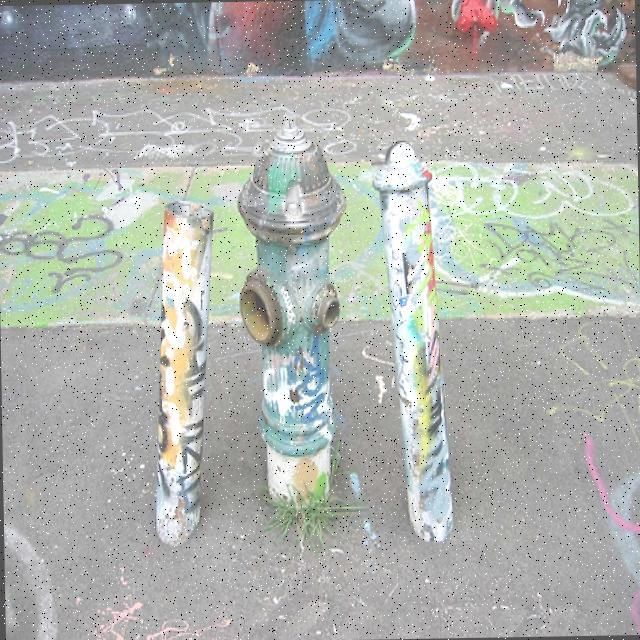fire_hydrant: (232, 106, 353, 508)
